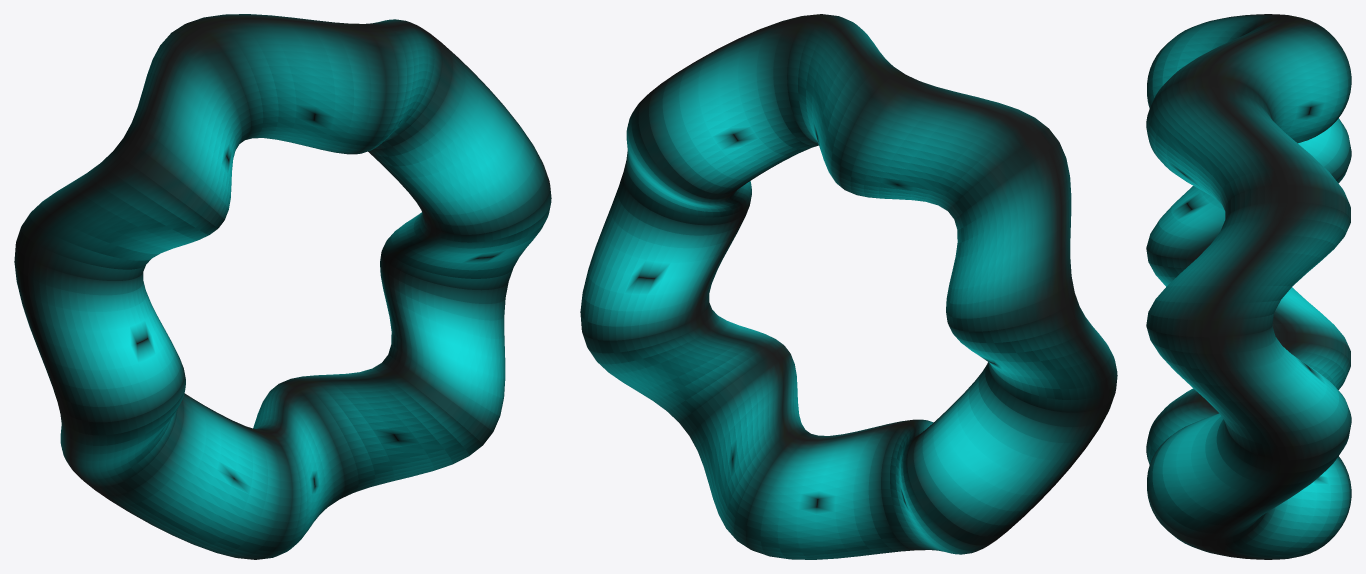
The model's file is step_9.glb.
3 views of the same model, side by side, from view 1: azimuth 30°, elevation 25°; view 2: azimuth 150°, elevation 25°; view 3: azimuth 270°, elevation 25° (orthographic). The views are drawn at different scales.
Parts seen in each view (by area): view 1: world; view 2: world; view 3: world.
Part boxes in pixels (left/top/right/bottom): world: left=14, top=14, right=551, bottom=559; world: left=580, top=14, right=1117, bottom=559; world: left=1146, top=14, right=1351, bottom=559.
Size of the model in its own units: 26 by 26 by 9.77.
